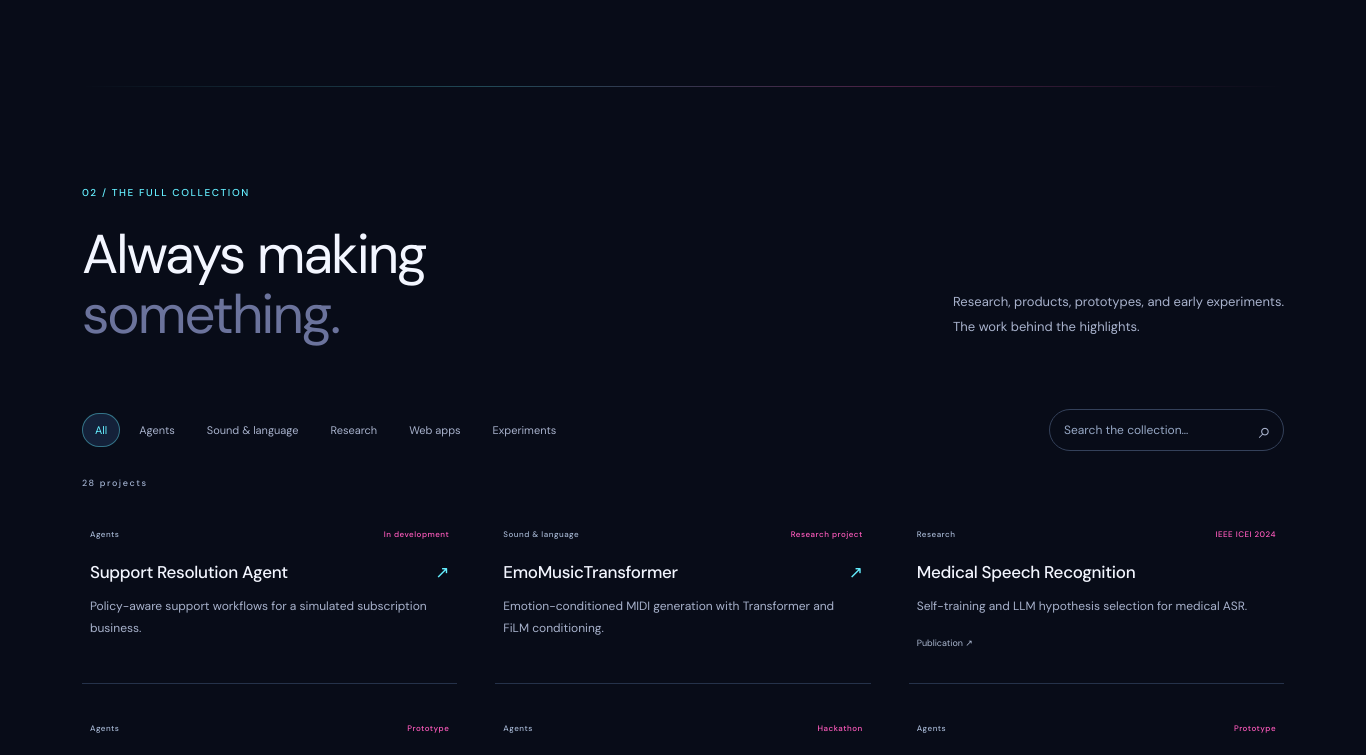
archive filters, searches, and recovers from empty results
(page scrolled)
Click the button "Agents" at (157,430), box [126,413,188,447]
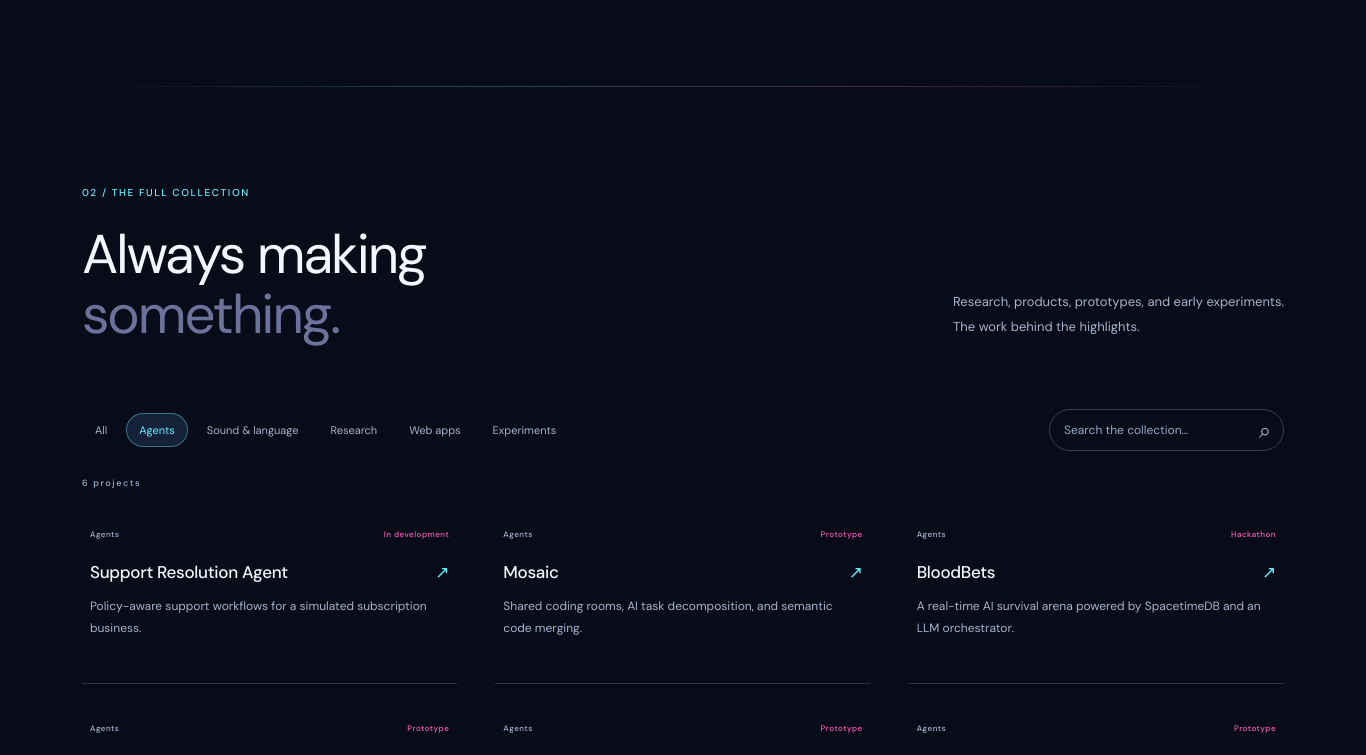
Click the button "All" at (101,430), box [82,413,120,447]
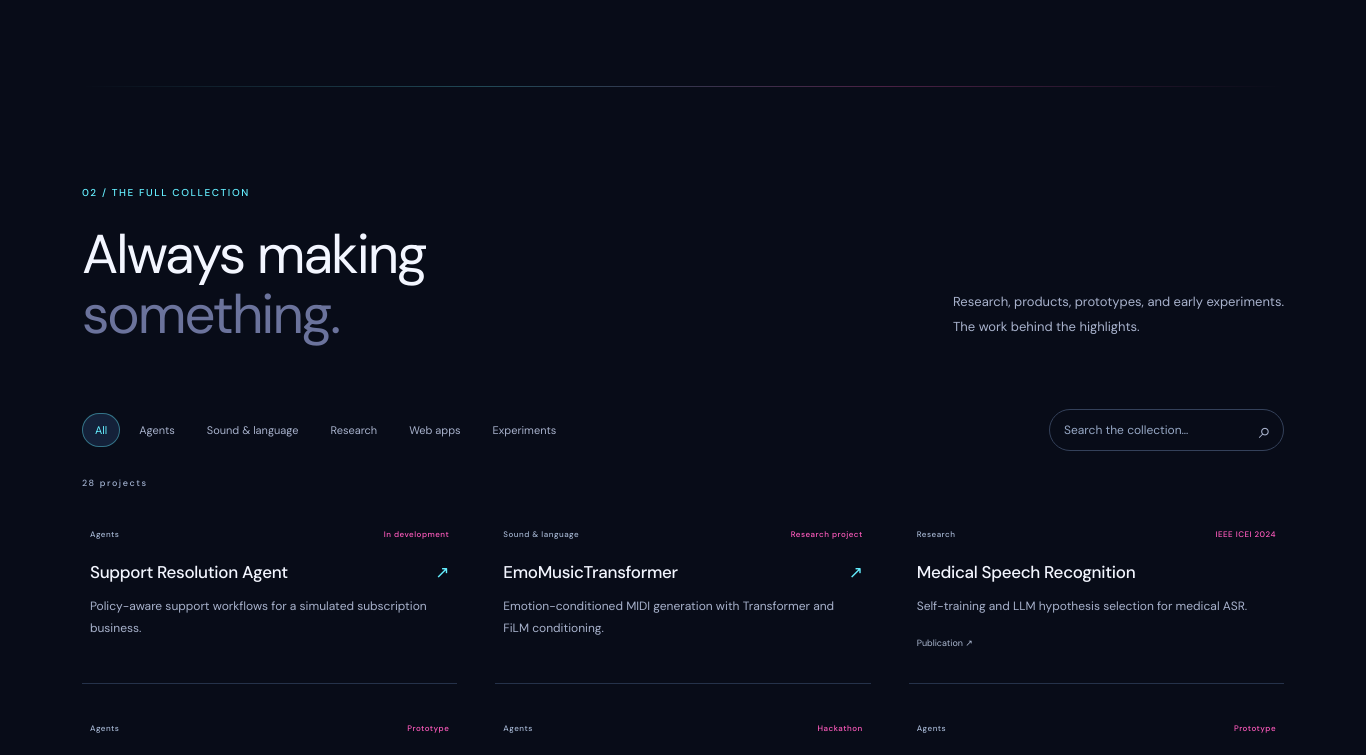
Type "Mosaic" into the search field at (1166,430), box [1049,409,1284,451]
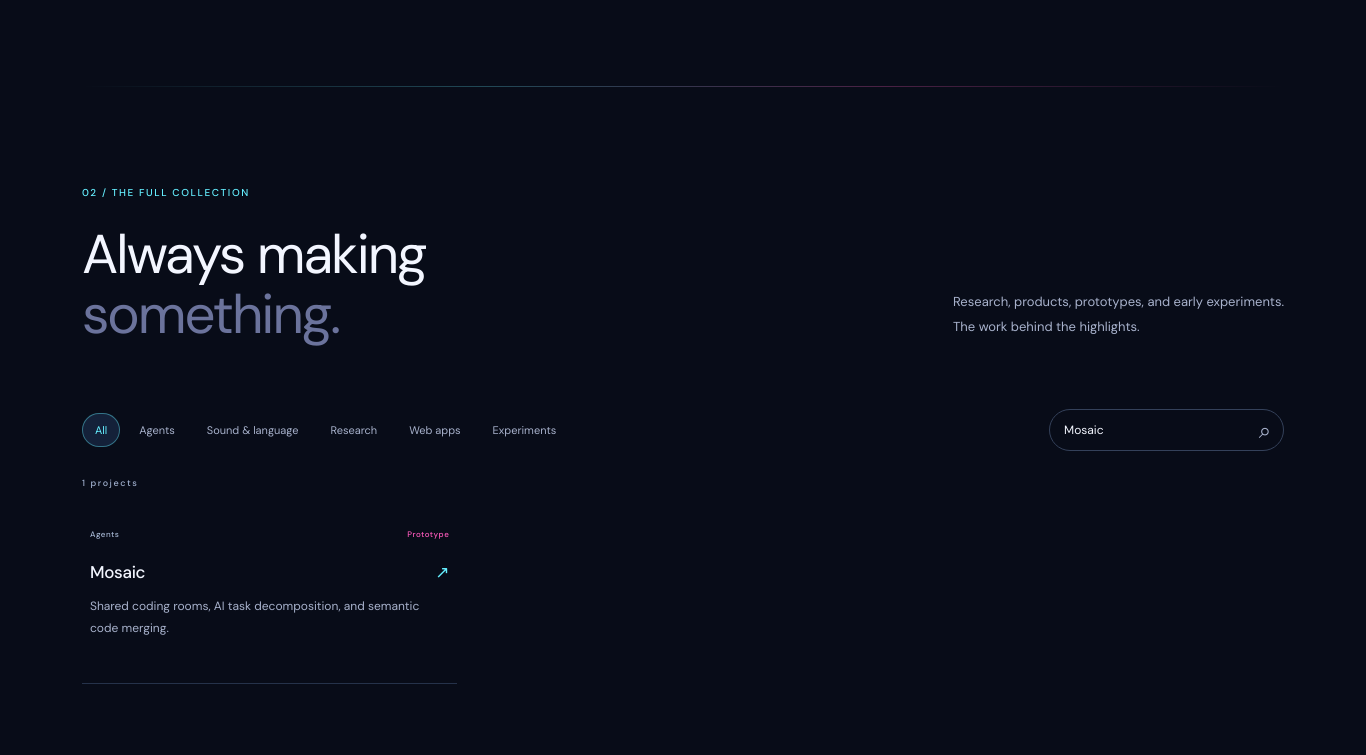
expect the number of elements with class "archive-card" is 1: met, box [82,504,457,684]
Replace the text in the search field with "zzzz" at (1166,430), box [1049,409,1284,451]
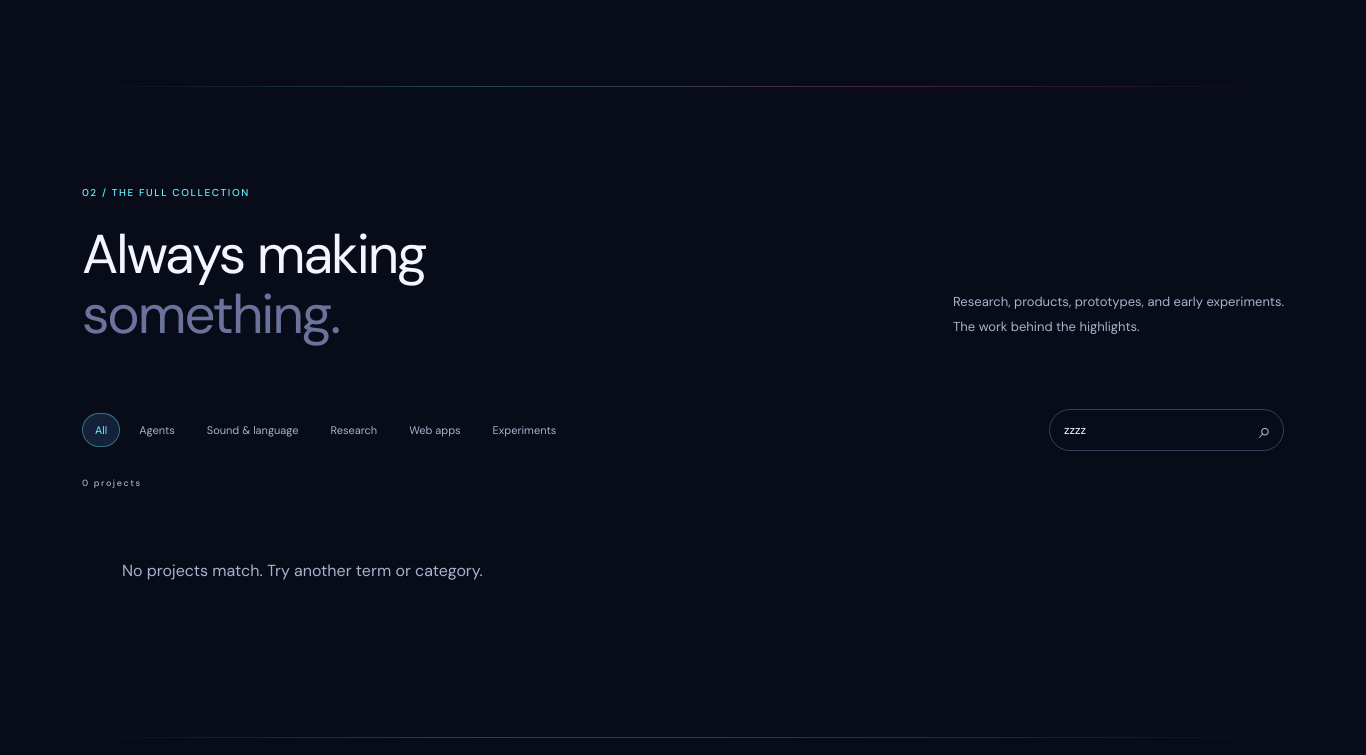
expect the text "No projects match. Try another term or category." is shown: met, box [122,560,483,581]
Clear the search field at (1166,430), box [1049,409,1284,451]
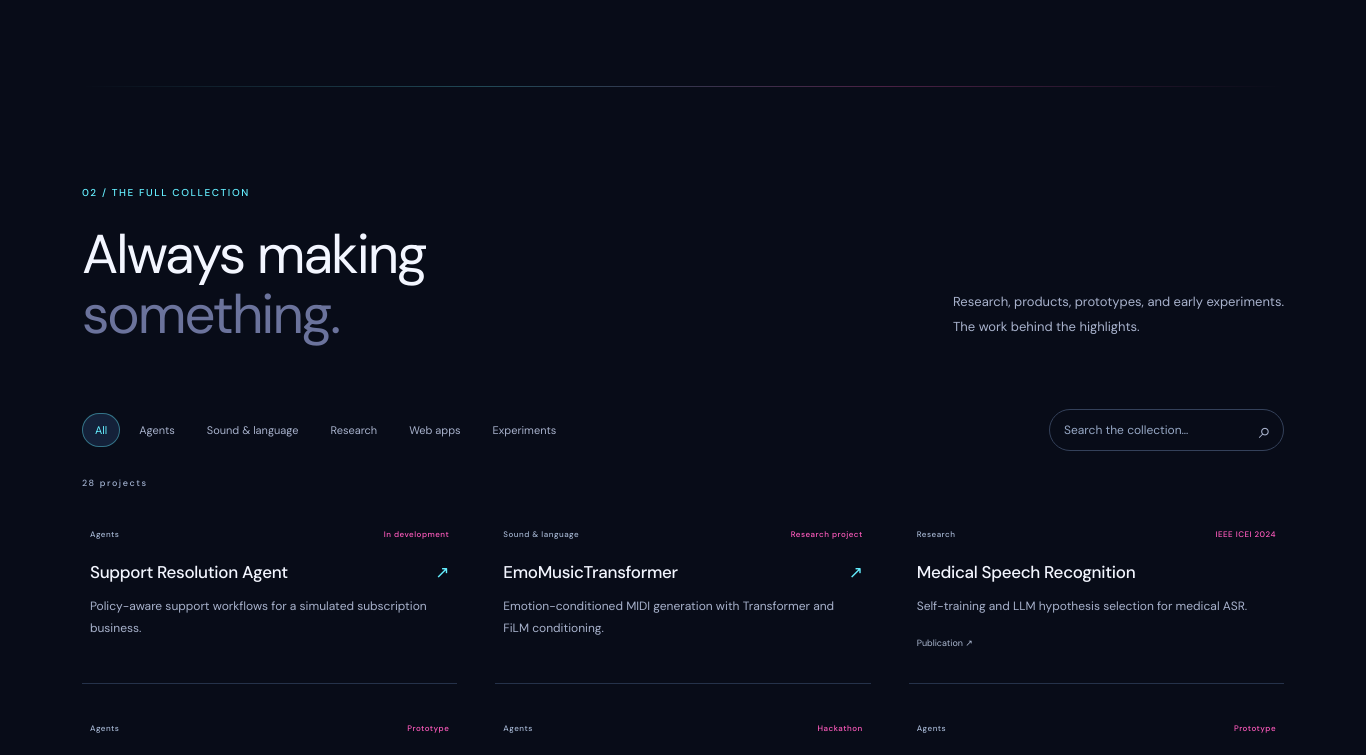
expect the number of elements with class "archive-card" is 28: met
